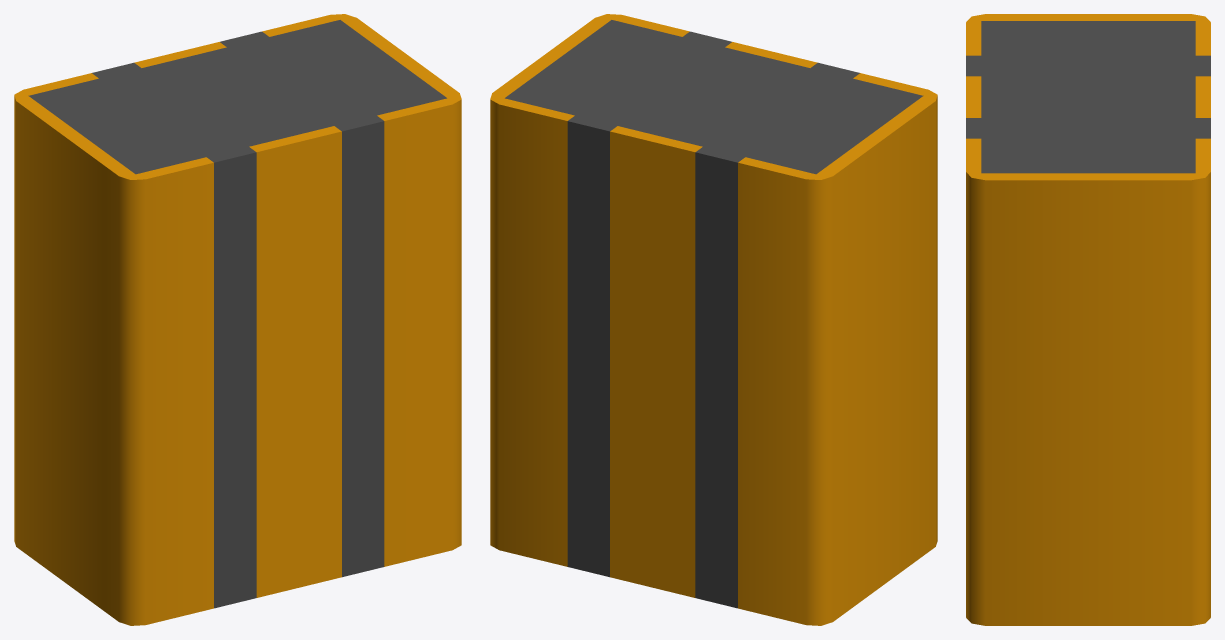
File: obj_dekotora_stripelight02.fbx
3 renders of one model, left to right at view 1: azimuth 30°, elevation 25°; view 2: azimuth 150°, elevation 25°; view 3: azimuth 270°, elevation 25°, orthographic.
Visible parts, largest first — view 1: Cube.056; view 2: Cube.056; view 3: Cube.056.
Boxes of the visible parts, x1,y1,x2,y2 form: Cube.056: (14, 14, 461, 625); Cube.056: (490, 14, 937, 625); Cube.056: (966, 14, 1210, 625).
Bounding box in the file's own units: 1.6 × 2 × 0.9959.
